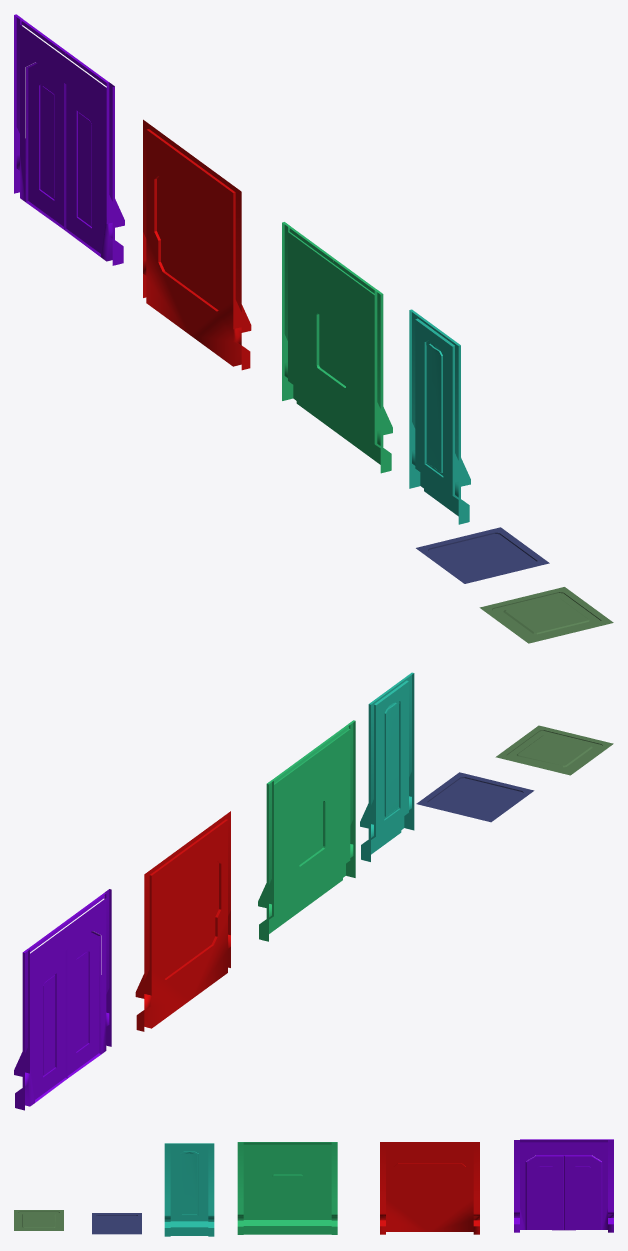
Rendered from joel.FBX.
The picture shows the model from 3 angles, top to bottom: view 1: azimuth 30°, elevation 25°; view 2: azimuth 150°, elevation 25°; view 3: azimuth 270°, elevation 25°; orthographic projection. The views are drawn at different scales.
Parts seen in each view (by area): view 1: Box007, Box008, Box001, Box013, Box006, Box011; view 2: Box007, Box008, Box001, Box013, Box006, Box011; view 3: Box001, Box007, Box008, Box013, Box011, Box006.
Boxes of the visible parts, <box> form: Box007: <box>14,14,124,265</box>; Box008: <box>143,119,251,370</box>; Box001: <box>282,222,392,473</box>; Box013: <box>409,309,470,524</box>; Box006: <box>479,587,613,643</box>; Box011: <box>416,527,549,583</box>; Box007: <box>14,889,111,1110</box>; Box008: <box>135,811,230,1031</box>; Box001: <box>258,720,355,941</box>; Box013: <box>360,672,414,861</box>; Box006: <box>495,725,613,775</box>; Box011: <box>416,772,534,822</box>; Box001: <box>237,1142,337,1234</box>; Box007: <box>514,1139,613,1232</box>; Box008: <box>380,1142,479,1234</box>; Box013: <box>164,1143,214,1236</box>; Box011: <box>92,1213,141,1234</box>; Box006: <box>14,1210,63,1230</box>.
Size of the model in its own units: 45.4 by 81.82 by 473.
